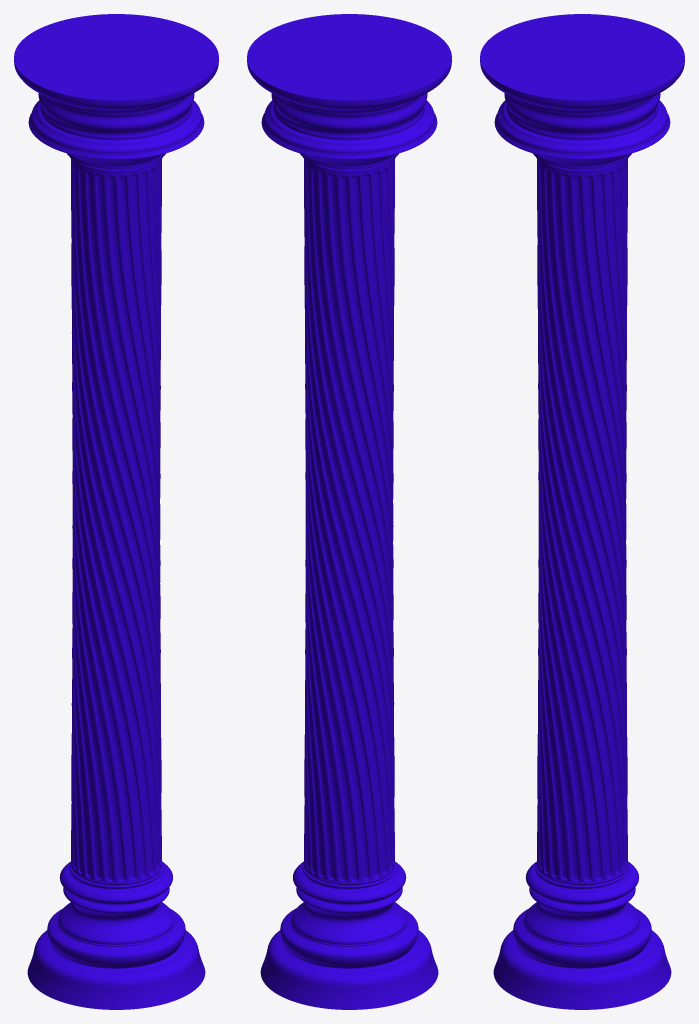
File: pillar.fbx
The picture shows the model from 3 angles, left to right: view 1: azimuth 30°, elevation 25°; view 2: azimuth 150°, elevation 25°; view 3: azimuth 270°, elevation 25°; orthographic projection.
Parts seen in each view (by area): view 1: Dah Baiki Tapi UV Boleh bagi lagi elok; view 2: Dah Baiki Tapi UV Boleh bagi lagi elok; view 3: Dah Baiki Tapi UV Boleh bagi lagi elok.
Boxes of the visible parts, <box> form: Dah Baiki Tapi UV Boleh bagi lagi elok: <box>14,14,218,1009</box>; Dah Baiki Tapi UV Boleh bagi lagi elok: <box>247,14,451,1009</box>; Dah Baiki Tapi UV Boleh bagi lagi elok: <box>480,14,684,1009</box>.
Size of the model in its own units: 288 by 1417 by 288.
